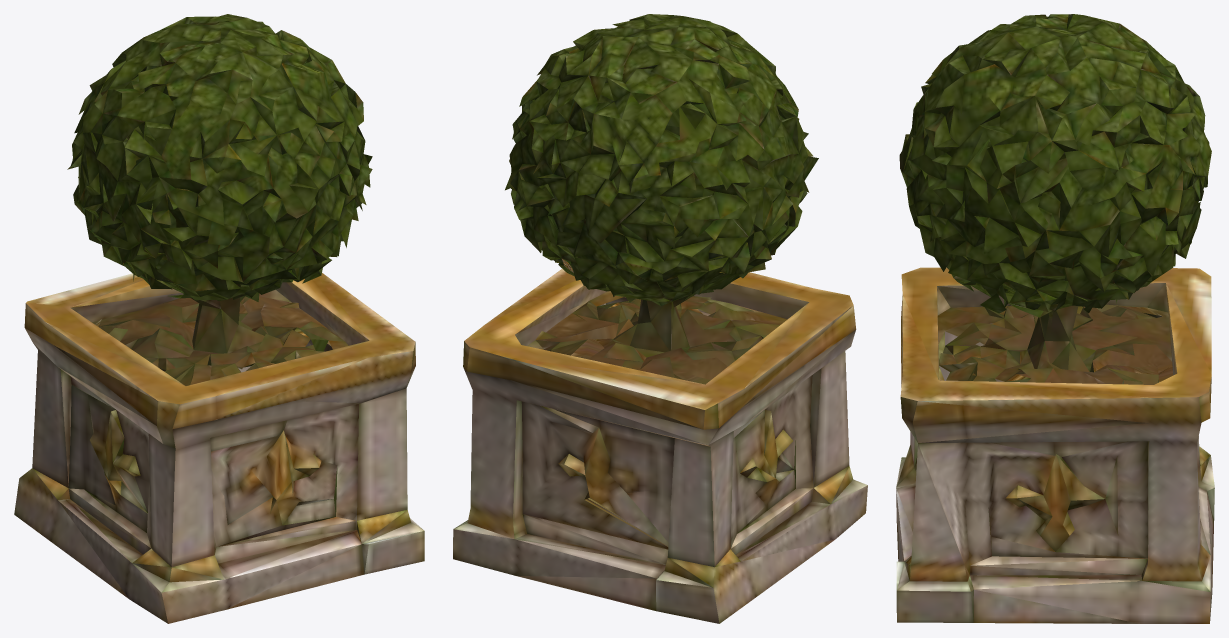
Rendered from royal_topiary.glb.
3 views of the same model, side by side, from view 1: azimuth 30°, elevation 25°; view 2: azimuth 150°, elevation 25°; view 3: azimuth 270°, elevation 25° (orthographic). The views are drawn at different scales.
Size of the model in its own units: 1.04 by 1.89 by 1.04.
Materials: 1 (1 with a texture image).
